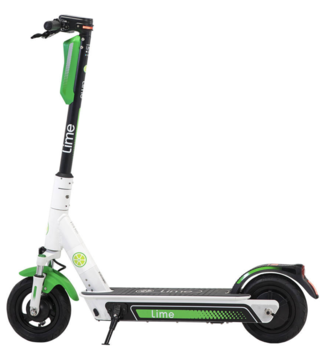scooter: (5, 12, 318, 346)
